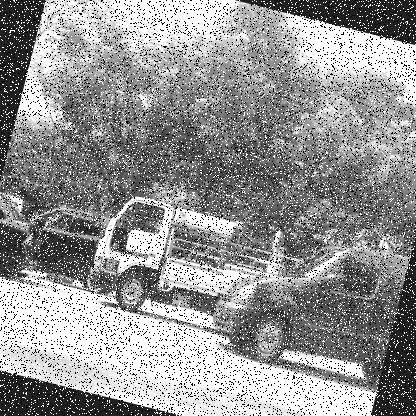Car: (204, 220, 409, 394), (18, 199, 130, 296), (0, 187, 58, 285)
